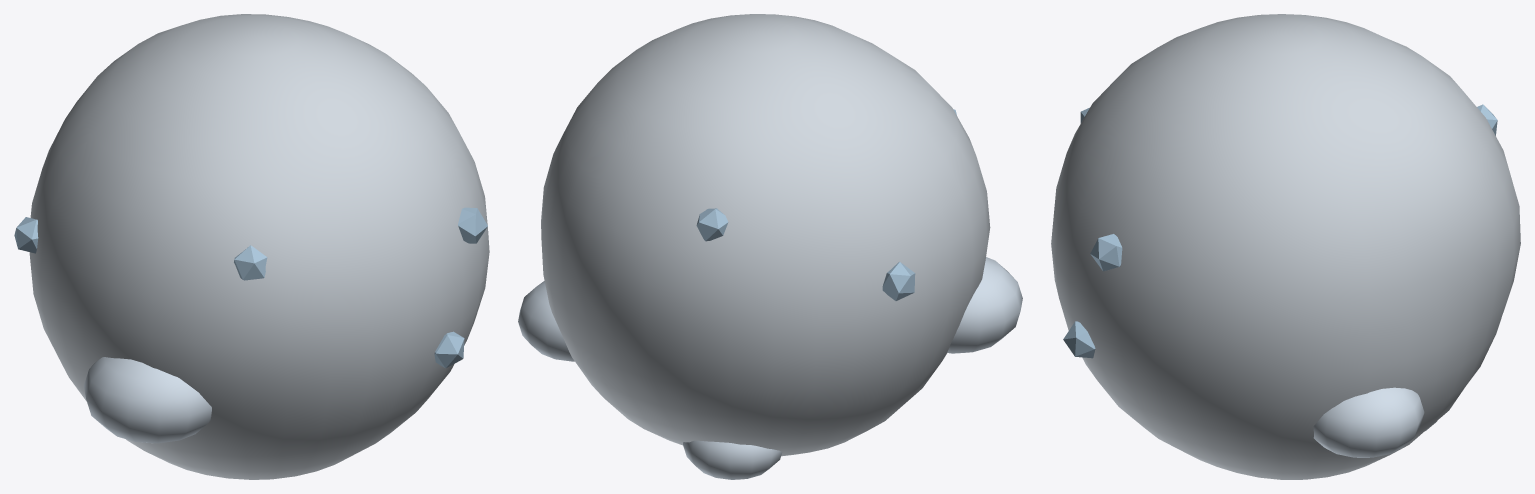
Rendered from w_snowball.glb.
3 views of the same model, side by side, from view 1: azimuth 30°, elevation 25°; view 2: azimuth 150°, elevation 25°; view 3: azimuth 270°, elevation 25° (orthographic). The views are drawn at different scales.
Parts seen in each view (by area): view 1: ball_wzA__snow__pdde5ed, clump_wzB__pack__pcbd7e3, ice_wzN__ice__pa5c1d6; view 2: ball_wzA__snow__pdde5ed, clump_wzB__pack__pcbd7e3, ice_wzN__ice__pa5c1d6; view 3: ball_wzA__snow__pdde5ed, clump_wzB__pack__pcbd7e3, ice_wzN__ice__pa5c1d6.
Part boxes in pixels (left/top/right/bottom): ball_wzA__snow__pdde5ed: left=29, top=14, right=489, bottom=479; clump_wzB__pack__pcbd7e3: left=84, top=357, right=211, bottom=443; ice_wzN__ice__pa5c1d6: left=14, top=207, right=487, bottom=368; ball_wzA__snow__pdde5ed: left=541, top=14, right=990, bottom=456; clump_wzB__pack__pcbd7e3: left=518, top=257, right=1022, bottom=479; ice_wzN__ice__pa5c1d6: left=696, top=109, right=956, bottom=300; ball_wzA__snow__pdde5ed: left=1051, top=14, right=1520, bottom=479; clump_wzB__pack__pcbd7e3: left=1313, top=387, right=1436, bottom=457; ice_wzN__ice__pa5c1d6: left=1063, top=104, right=1497, bottom=358.
Size of the model in its own units: 0.1421 by 0.1374 by 0.1385.
